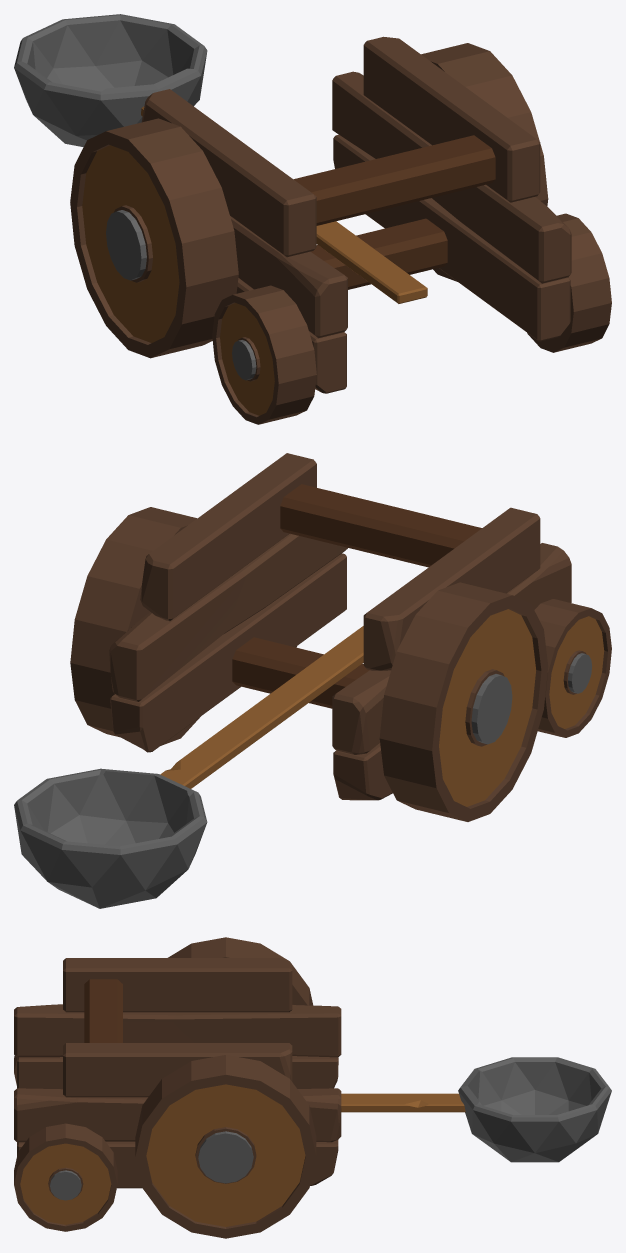
Rendered from Catapult.fbx.
3 views of the same model, one above another, from view 1: azimuth 30°, elevation 25°; view 2: azimuth 150°, elevation 25°; view 3: azimuth 270°, elevation 25° (orthographic). The views are drawn at different scales.
Parts seen in each view (by area): view 1: Cannon_Platform, Wheels, Catapult; view 2: Cannon_Platform, Wheels, Catapult; view 3: Cannon_Platform, Wheels, Catapult.
Boxes of the visible parts, left/top/right/bottom form: Cannon_Platform: left=141, top=36, right=571, bottom=393; Wheels: left=70, top=43, right=611, bottom=424; Catapult: left=14, top=14, right=427, bottom=303; Cannon_Platform: left=109, top=453, right=571, bottom=800; Wheels: left=70, top=507, right=611, bottom=821; Catapult: left=14, top=626, right=363, bottom=908; Cannon_Platform: left=14, top=958, right=341, bottom=1188; Wheels: left=14, top=937, right=316, bottom=1238; Catapult: left=341, top=1057, right=611, bottom=1162.
Bounding box in the file's own units: 427 × 232 × 766.
